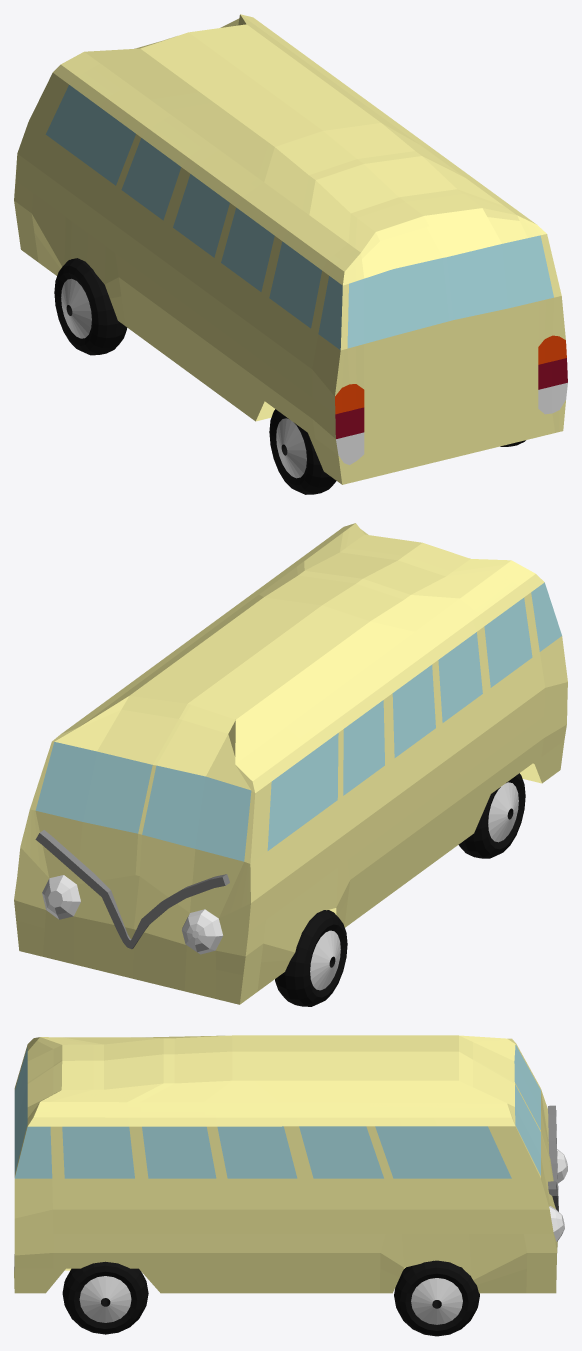
File: engelminibus2.fbx
The picture shows the model from 3 angles, top to bottom: view 1: azimuth 30°, elevation 25°; view 2: azimuth 150°, elevation 25°; view 3: azimuth 270°, elevation 25°; orthographic projection. The views are drawn at different scales.
Visible parts, largest first — view 1: Cube.005, Torus.011, Torus.010; view 2: Cube.005, Torus.011, Torus.010; view 3: Cube.005, Torus.009, Torus.008.
Boxes of the visible parts, <box> form: Cube.005: <box>14,14,567,484</box>; Torus.011: <box>54,258,127,355</box>; Torus.010: <box>269,409,336,494</box>; Cube.005: <box>14,523,567,1004</box>; Torus.011: <box>275,910,347,1006</box>; Torus.010: <box>458,773,525,858</box>; Cube.005: <box>14,1035,567,1293</box>; Torus.009: <box>394,1260,479,1336</box>; Torus.008: <box>62,1261,148,1334</box>.
Bounding box in the file's own units: 1180 × 1215 × 2562.
